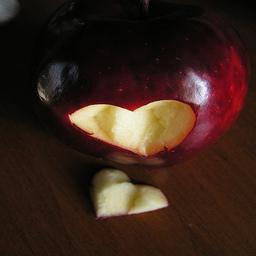apple: (37, 1, 251, 167)
